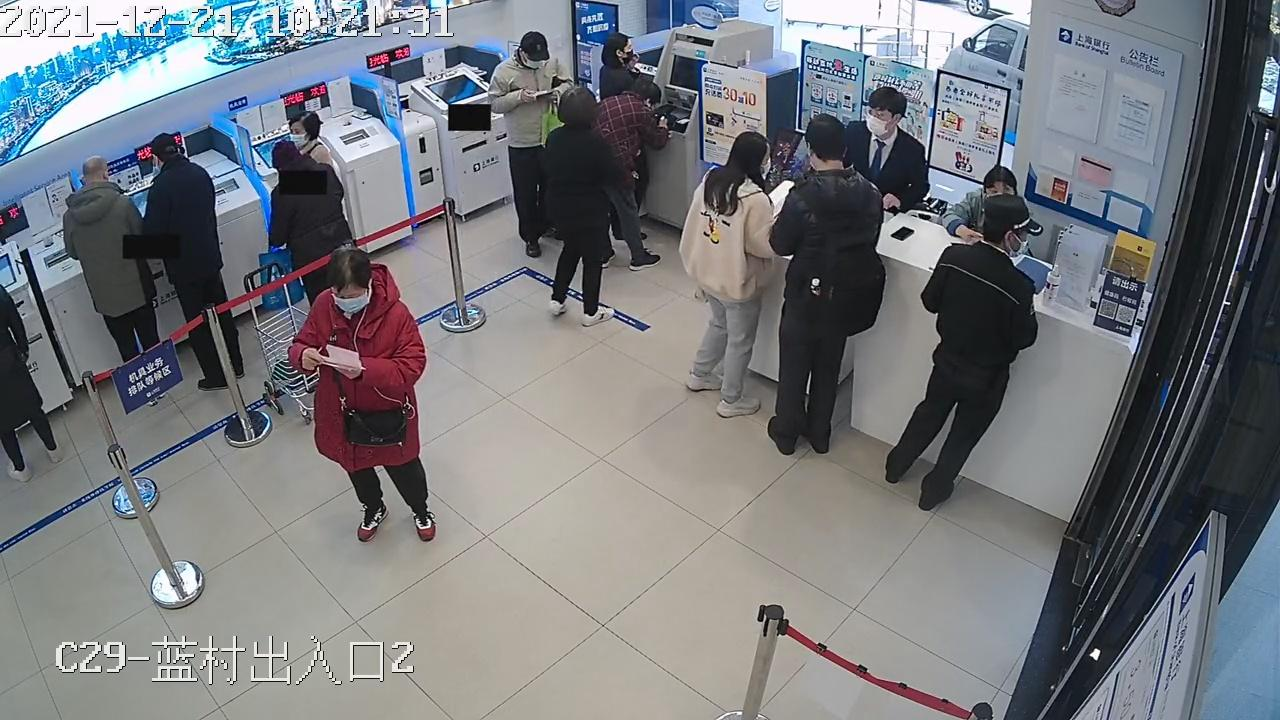person: (885, 190, 1041, 509), (286, 246, 440, 545), (768, 118, 885, 458), (683, 132, 781, 419), (142, 131, 247, 391), (61, 155, 160, 365), (543, 87, 624, 326), (488, 30, 568, 259), (592, 35, 668, 272), (269, 139, 351, 308), (0, 276, 62, 481), (842, 88, 931, 218), (292, 111, 352, 244), (946, 166, 1028, 247), (0, 263, 29, 369)
